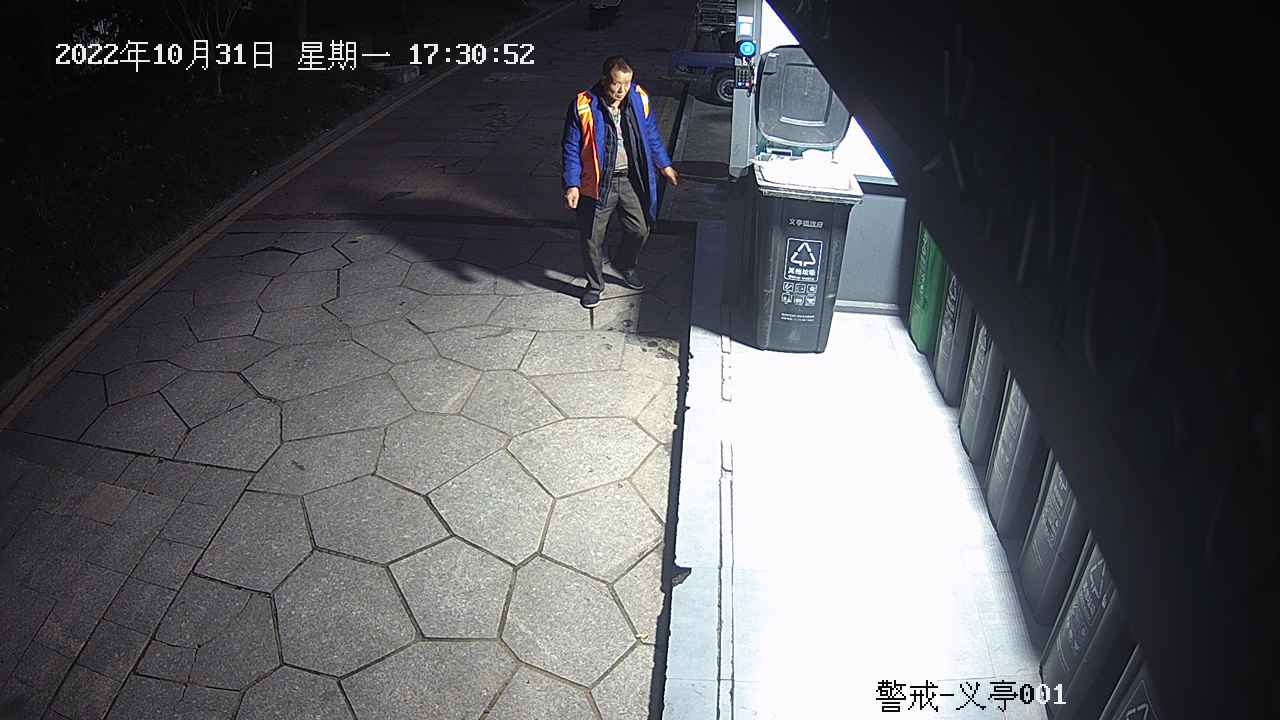worker: (559, 53, 681, 308)
